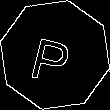P_N: (31, 26, 79, 84)
